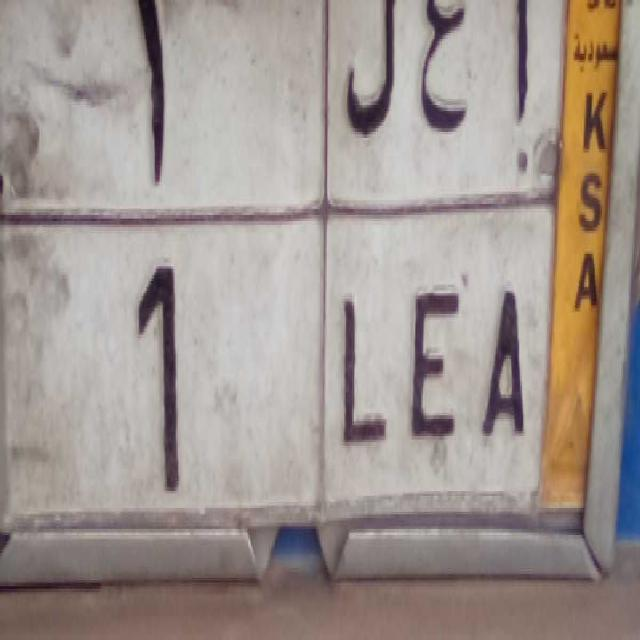license_plate: (0, 208, 551, 521)
